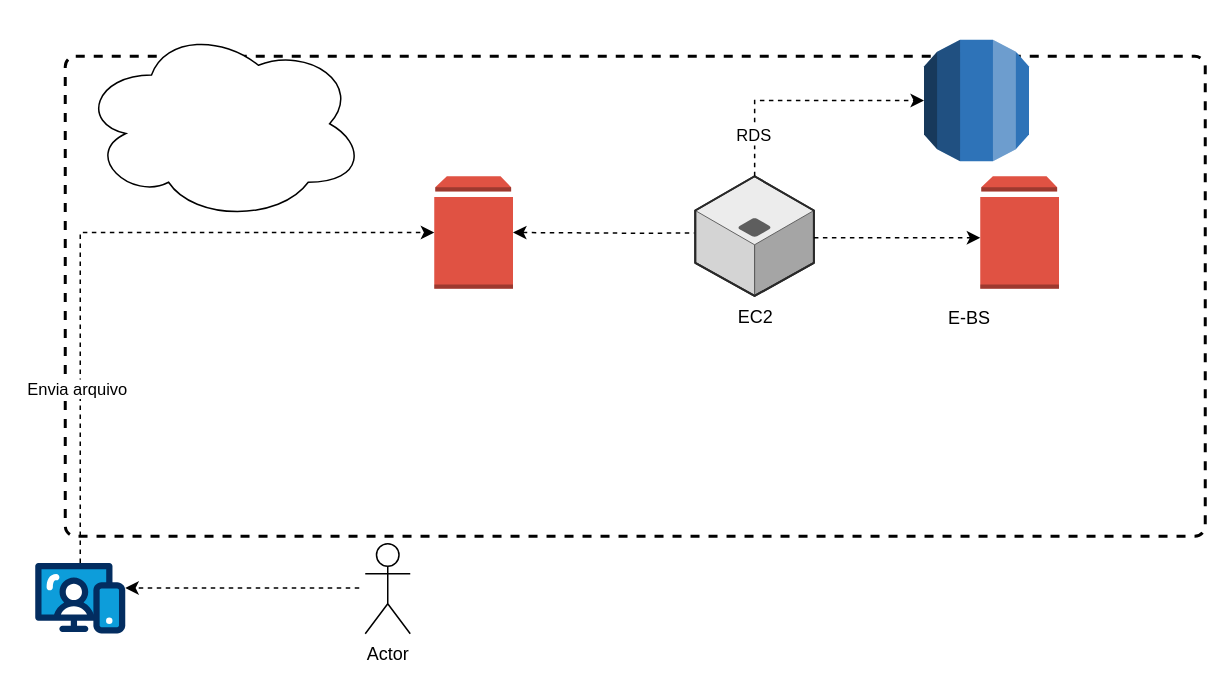
Image size: 1232x692. Some labels were removed from this diagram. Each missing label, with the centre of its shape:
AWS: (222,123)
D-EBS: (473,232)
